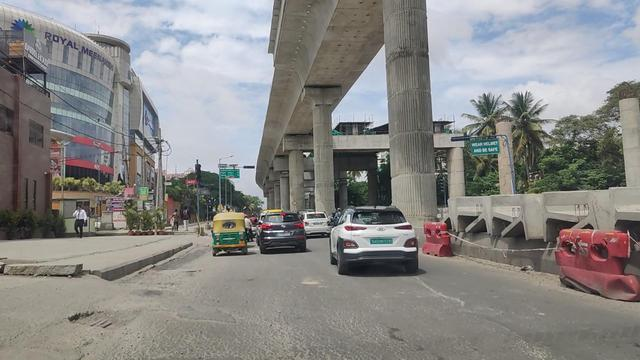LMV: (330, 206, 415, 271), (212, 211, 248, 254), (262, 212, 303, 249)
RoadDamages: (265, 317, 353, 360), (162, 317, 244, 360), (71, 301, 132, 343), (403, 274, 442, 296)
